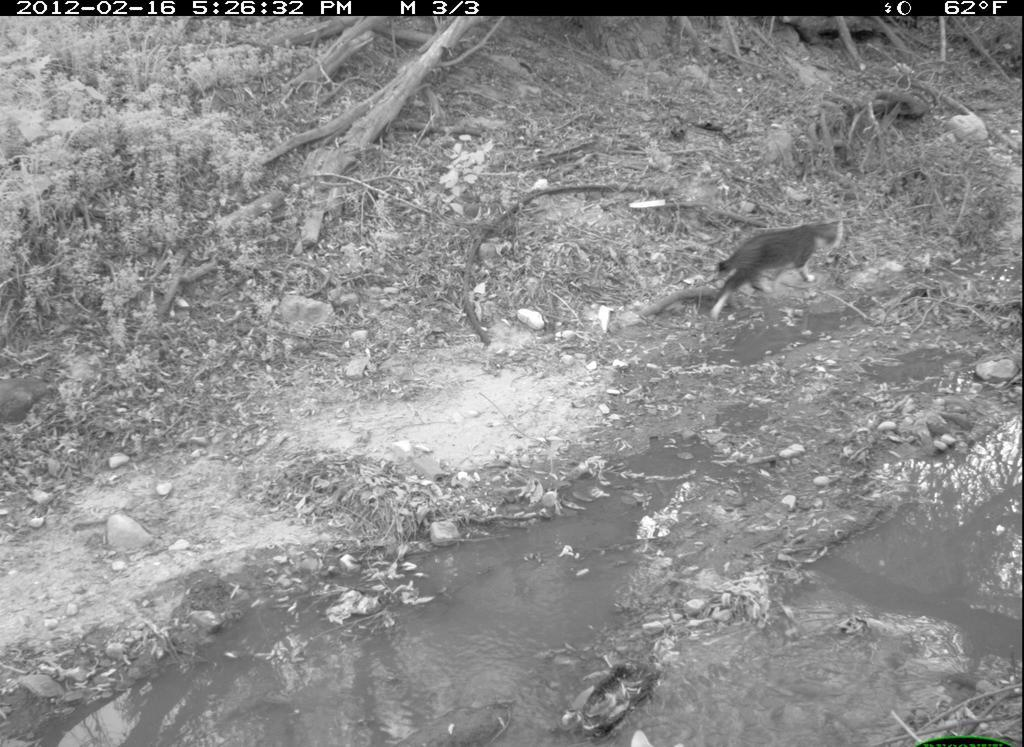cat: (679, 201, 865, 354)
